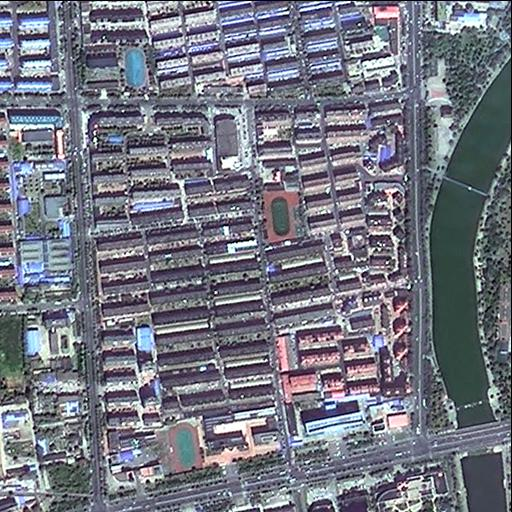school: (255, 143, 307, 245), (76, 42, 154, 97)
